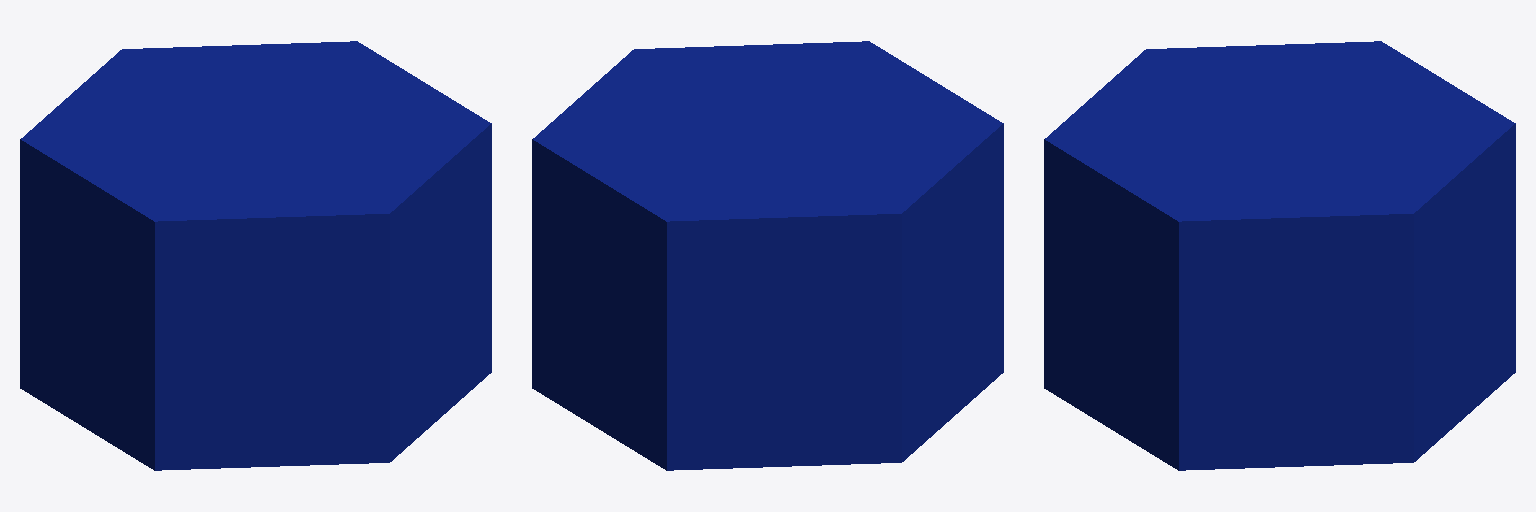
URDF robot description (block):
<robot name="block">
  <link name="block_base_link">

    <inertial>
      <origin rpy="0 0 0" xyz="-0.04959 0.04 0.015"/>
      <mass value="0.05"/>
      <inertia ixx="1.1065e-05" ixy="0.0" ixz="0.0" iyy="1.1065e-05" iyz="0.0" izz="1.4357e-05"/>
    </inertial>
    <collision>
      
      <geometry>
        <mesh filename="17.STL" scale="1 1 1"/>
      </geometry>
    </collision>
    <visual>
 
      <geometry>
        <mesh filename="17.STL" scale="1 1 1"/>
      </geometry>
      <material name="tray_material">
        <color rgba="0.1 0.2 0.6 1"/>
      </material>
    </visual>
  </link>
</robot>

--- Facts derived from the render (not from the file) ---
Views: 3 orthographic renders of the robot side by side, from view 1: azimuth 30°, elevation 25°; view 2: azimuth 150°, elevation 25°; view 3: azimuth 270°, elevation 25°.
Robot: block — 1 links, 0 joints (none); root link block_base_link; default pose: all joints at 0.
Links seen in each view (by area): view 1: block_base_link; view 2: block_base_link; view 3: block_base_link.
Link boxes in pixels (box(x1,y1,x2,y2)): block_base_link: box(20, 41, 491, 470); block_base_link: box(532, 41, 1003, 470); block_base_link: box(1044, 41, 1515, 470).
Size in the robot's own frame: 0.0466 by 0.0514 by 0.03 metres.
Meshes: 1 distinct files referenced, 1 mesh visuals loaded (1 binary STL).